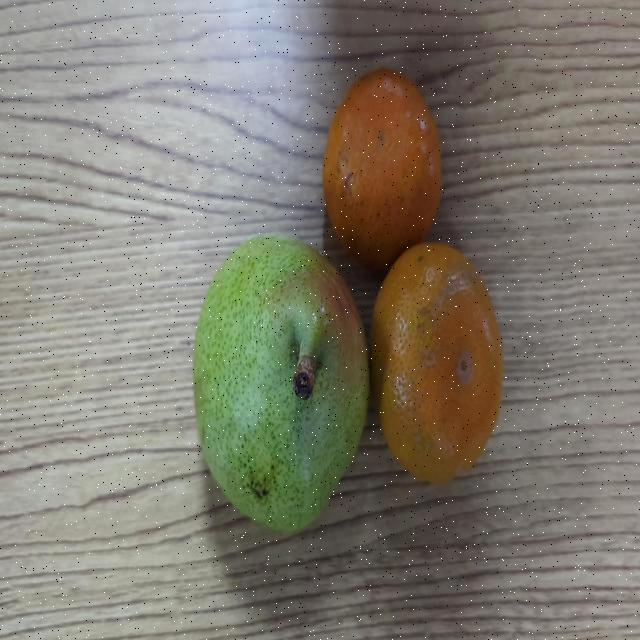Jeruk Mandarin: (370, 244, 538, 503), (322, 59, 441, 254)
Pir: (190, 219, 364, 545)
